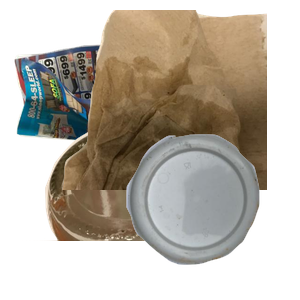glass: (22, 120, 233, 300)
paper: (12, 31, 196, 204)
plastic: (124, 132, 300, 300)
trash: (60, 10, 300, 190)
